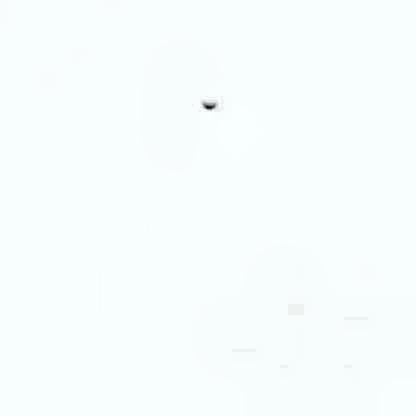golfball: (198, 95, 216, 106)
